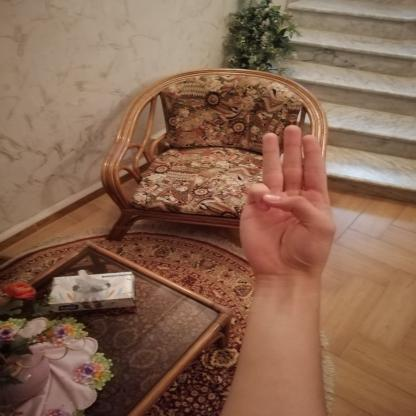THA: (223, 116, 343, 286)
